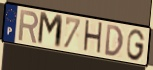7: (63, 16, 82, 51)
D: (104, 24, 125, 59)
G: (126, 28, 146, 62)
H: (82, 18, 104, 57)
M: (36, 10, 65, 51)
R: (17, 8, 40, 45)
